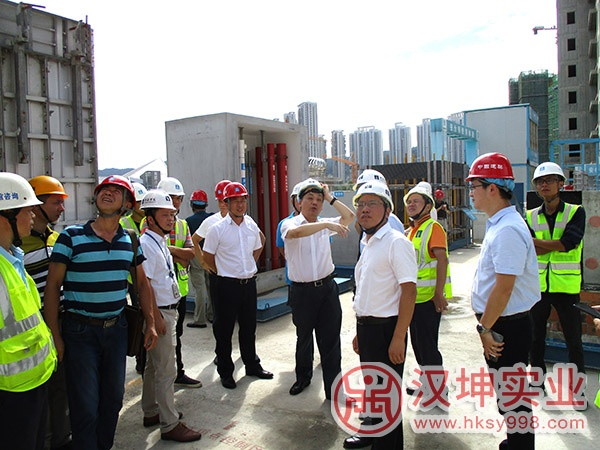red: (468, 153, 515, 213), (223, 180, 247, 218), (213, 180, 229, 211), (189, 189, 209, 212), (433, 188, 444, 202)
white: (1, 169, 35, 241), (354, 180, 394, 230), (142, 189, 176, 232), (531, 160, 565, 201), (403, 182, 437, 222), (294, 179, 327, 217), (157, 172, 184, 208), (129, 181, 146, 214)
yellow: (26, 173, 69, 223)
